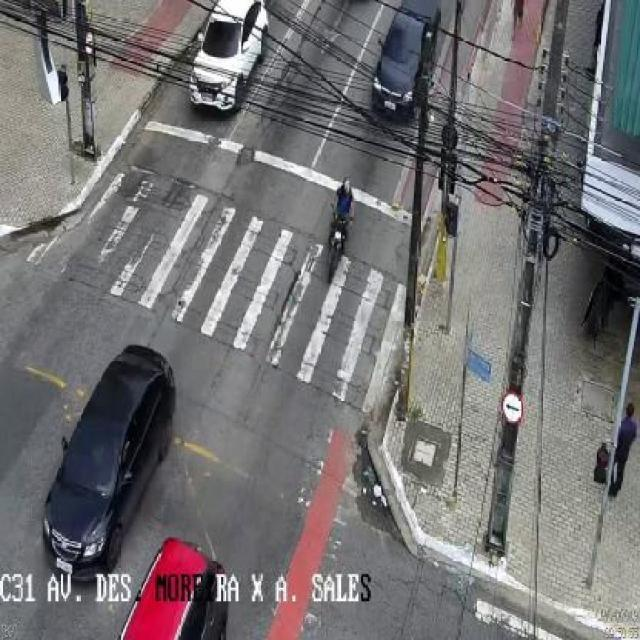Car: (39, 313, 171, 599), (178, 0, 275, 142), (120, 508, 216, 640), (364, 0, 444, 118)
Cycle: (304, 182, 366, 290)
